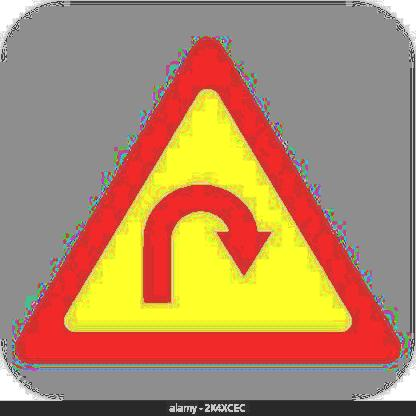U-turn: (19, 61, 403, 376)
